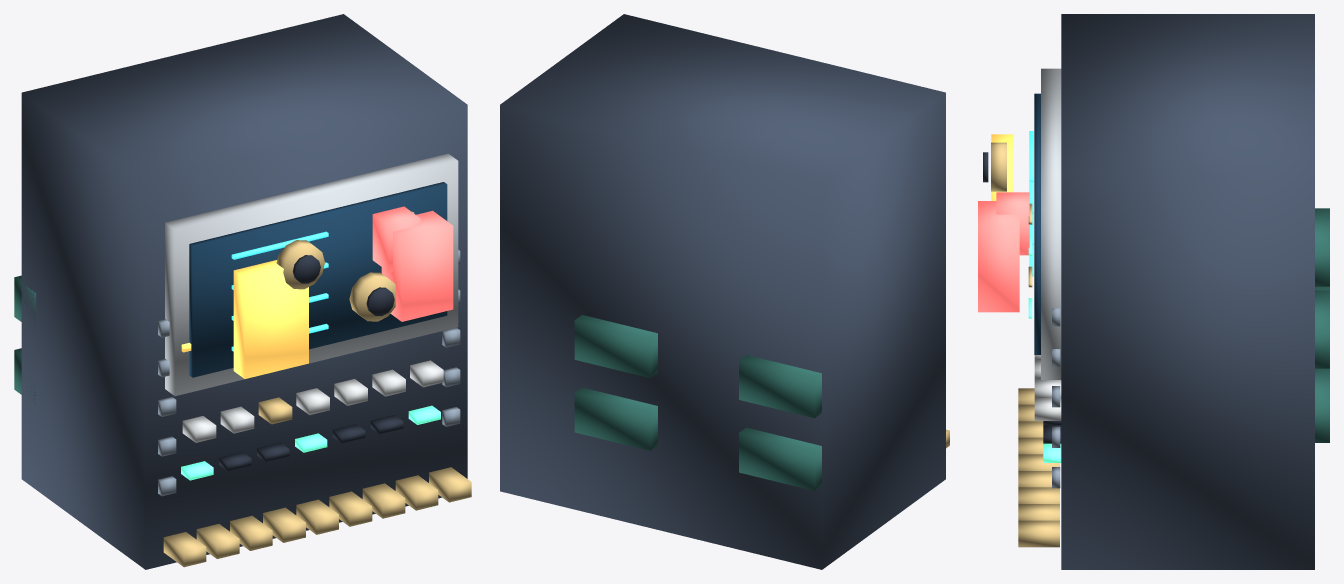
Rendered from 85_L91_TelescopeGimbalJamTest.glb.
3 views of the same model, side by side, from view 1: azimuth 30°, elevation 25°; view 2: azimuth 150°, elevation 25°; view 3: azimuth 270°, elevation 25° (orthographic). The views are drawn at different scales.
Parts seen in each view (by area): view 1: L91_TelescopeGimbalJamTest, L91_TelescopeGimbalJamTest_Part_0013, L91_TelescopeGimbalJamTest_Part_0017, L91_TelescopeGimbalJamTest_Part_0015, L91_TelescopeGimbalJamTest_Part_0016, L91_TelescopeGimbalJamTest_Part_0018; view 2: L91_TelescopeGimbalJamTest; view 3: L91_TelescopeGimbalJamTest, L91_TelescopeGimbalJamTest_Part_0013, L91_TelescopeGimbalJamTest_Part_0015.
Boxes of the visible parts, x1,y1,x2,y2 form: L91_TelescopeGimbalJamTest: [14, 14, 471, 569]; L91_TelescopeGimbalJamTest_Part_0013: [381, 210, 453, 321]; L91_TelescopeGimbalJamTest_Part_0017: [349, 272, 395, 321]; L91_TelescopeGimbalJamTest_Part_0015: [276, 240, 324, 289]; L91_TelescopeGimbalJamTest_Part_0016: [292, 255, 320, 283]; L91_TelescopeGimbalJamTest_Part_0018: [366, 287, 394, 315]; L91_TelescopeGimbalJamTest: [500, 14, 949, 569]; L91_TelescopeGimbalJamTest: [991, 14, 1329, 569]; L91_TelescopeGimbalJamTest_Part_0013: [978, 201, 1019, 312]; L91_TelescopeGimbalJamTest_Part_0015: [991, 142, 1006, 191].
Size of the model in its own units: 1 by 1.15 by 0.9293.
